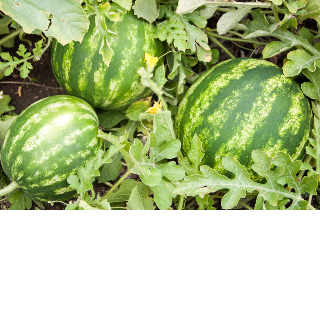dua_hau: (177, 55, 312, 196), (49, 3, 166, 113), (1, 94, 111, 198)
